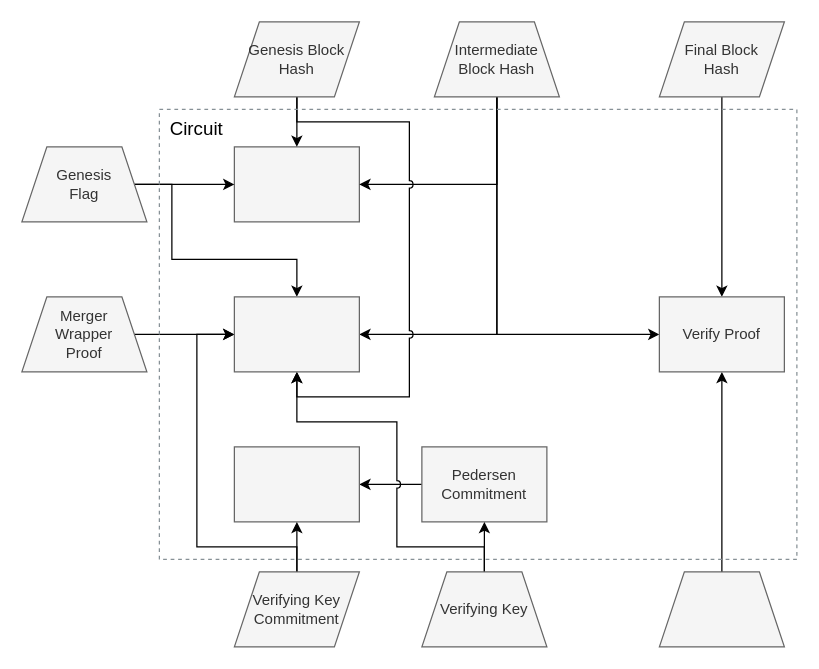
This 819x669 diagram has some shape labels left out. Here are the shapes that lost their labels. From the top down, the centre of each, then its label:
At pixel 296 184: "Conditionally Verify Equality".
At pixel 296 334: "Conditionally Verify Proof".
At pixel 296 484: "Verify Equality".
At pixel 721 609: "Macro Block Wrapper Proof".
